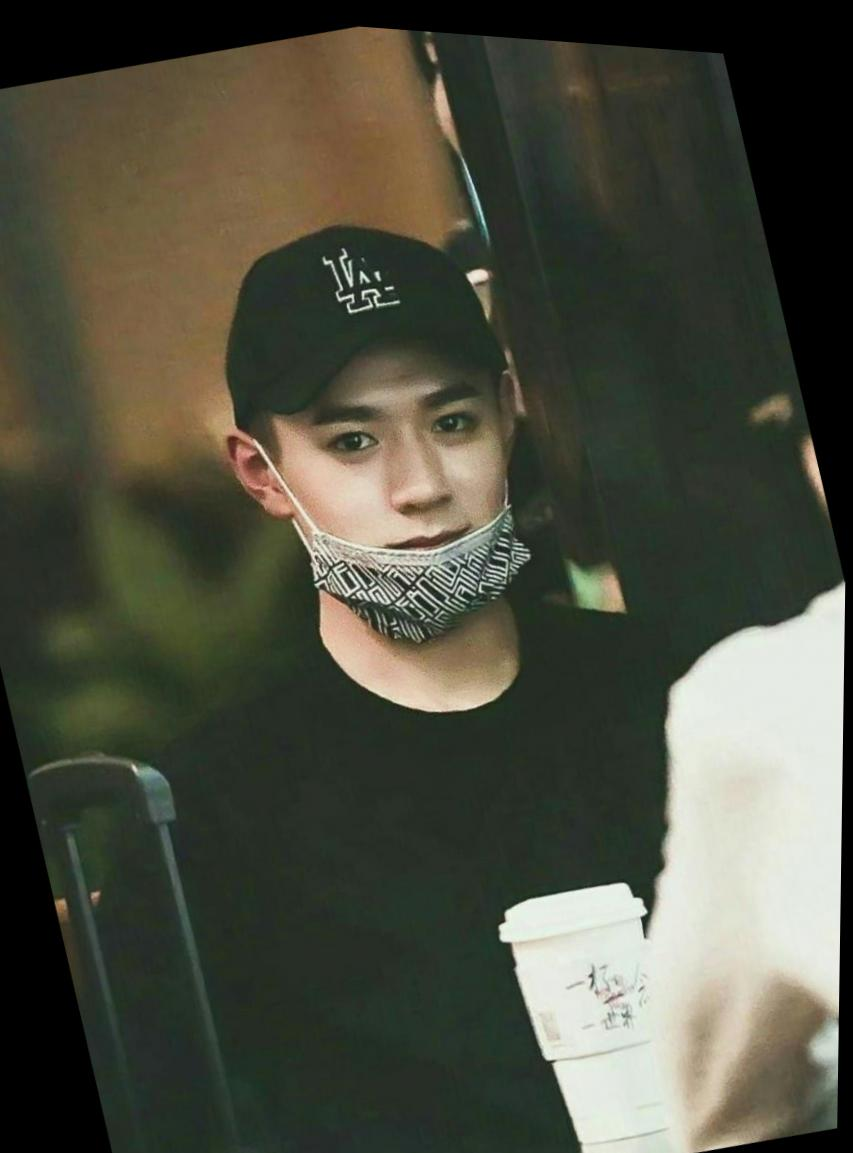WRONG: (270, 344, 562, 650)
